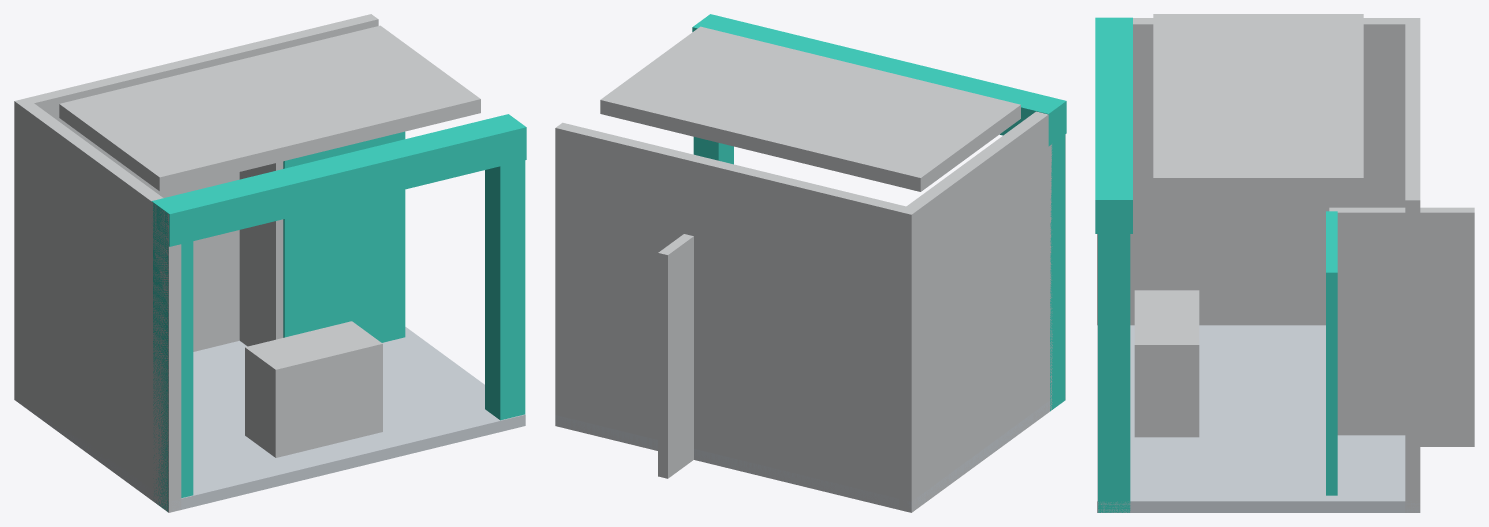
3 views of the same model, side by side, from view 1: azimuth 30°, elevation 25°; view 2: azimuth 150°, elevation 25°; view 3: azimuth 270°, elevation 25° (orthographic). The views are drawn at different scales.
Visible parts, largest first — view 1: Exhibition Booth Concept; view 2: Exhibition Booth Concept; view 3: Exhibition Booth Concept.
Boxes of the visible parts, x1,y1,x2,y2 form: Exhibition Booth Concept: (14,14,526,512); Exhibition Booth Concept: (555,14,1066,512); Exhibition Booth Concept: (1095,14,1474,512).
Bounding box in the file's own units: 4 × 3.34 × 3.52.
